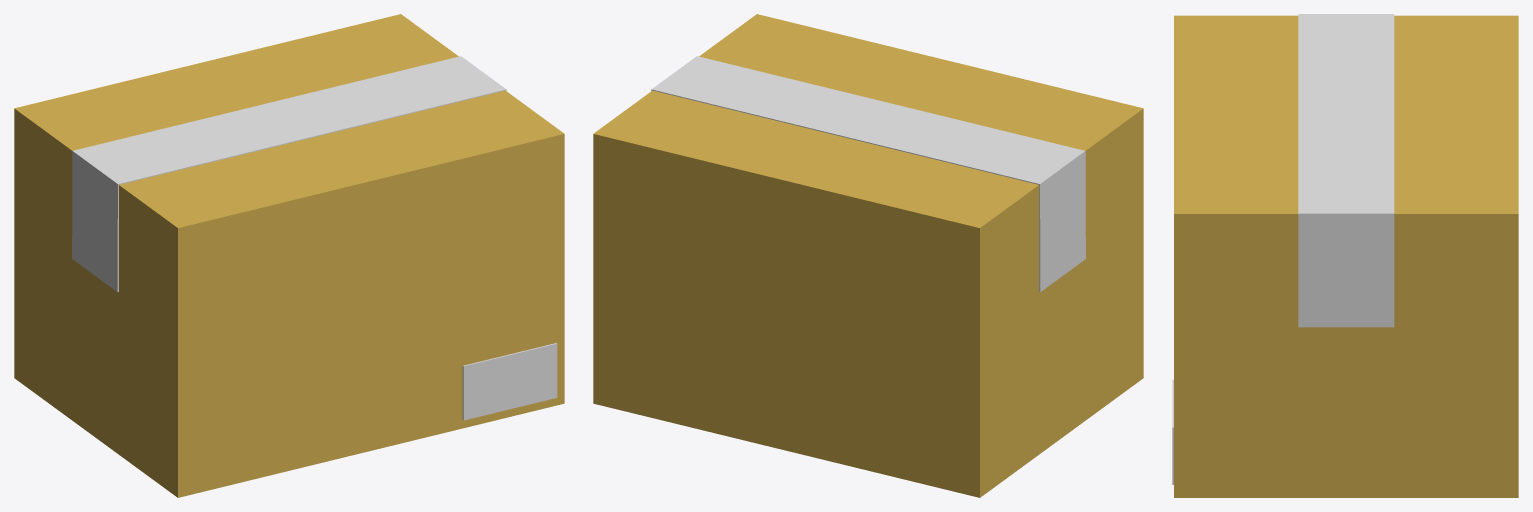
3 renders of one model, left to right at view 1: azimuth 30°, elevation 25°; view 2: azimuth 150°, elevation 25°; view 3: azimuth 270°, elevation 25°, orthographic. The views are drawn at different scales.
Parts seen in each view (by area): view 1: Cube; view 2: Cube; view 3: Cube.
Boxes of the visible parts, x1,y1,x2,y2 form: Cube: (14,14,564,497); Cube: (593,14,1143,497); Cube: (1172,14,1518,497).
Size of the model in its own units: 302 by 201 by 221.
